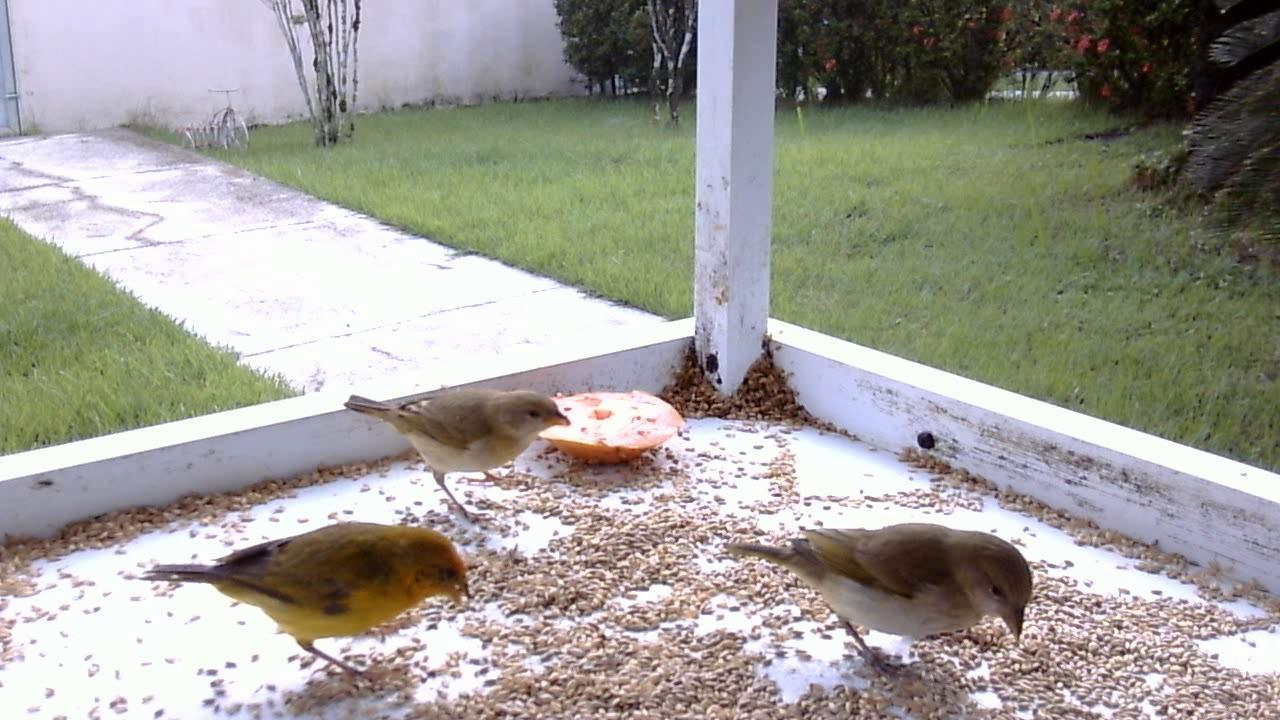canario_do_amazonas: (137, 516, 472, 693), (728, 513, 1037, 677), (340, 373, 573, 538)
